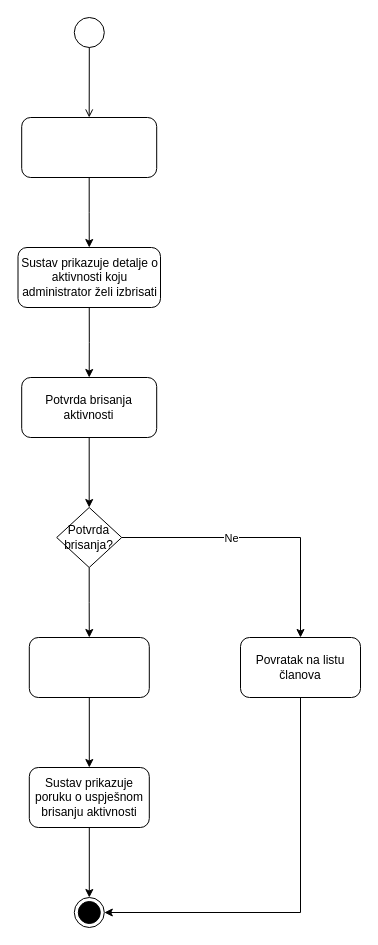
Image size: 378x945. Some labels were removed from this diagram. Each missing label, with the centre of its shape:
"Administrator odabire aktivnosti koju želi izbrisati" belongs at [89,147].
"Uklanjanje aktivnosti iz baze podataka" belongs at [88,667].
